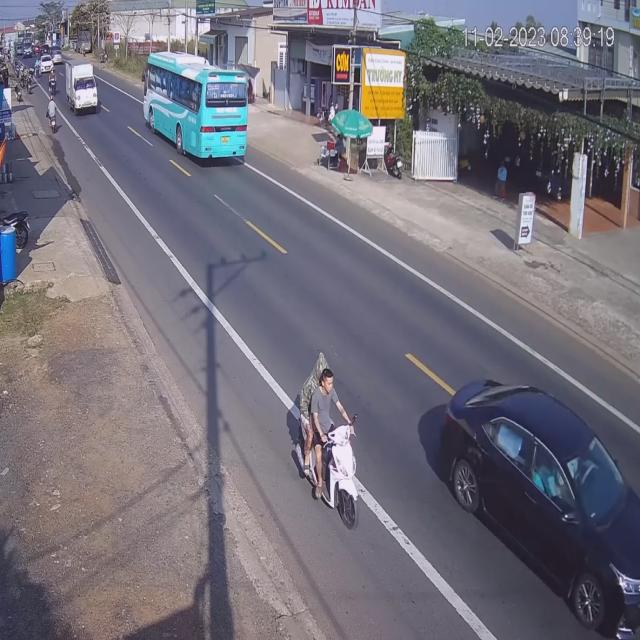bus: (143, 47, 250, 163)
car: (438, 378, 638, 640)
motorbike: (289, 352, 359, 524), (46, 98, 57, 130)
truck: (67, 58, 97, 119)
